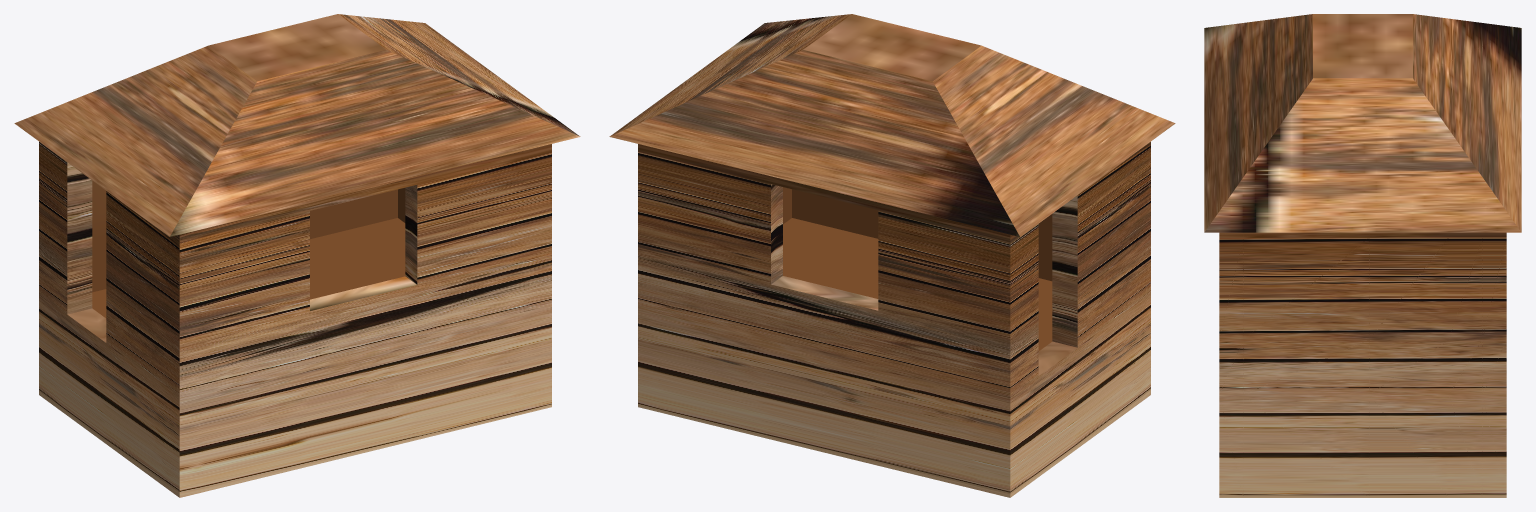
The model's file is home(sarai).fbx.
3 views of the same model, side by side, from view 1: azimuth 30°, elevation 25°; view 2: azimuth 150°, elevation 25°; view 3: azimuth 270°, elevation 25° (orthographic). The views are drawn at different scales.
Visible parts, largest first — view 1: Cube; view 2: Cube; view 3: Cube.
Part boxes in pixels (bbox=[...]): Cube: bbox=[14, 14, 580, 497]; Cube: bbox=[609, 14, 1175, 497]; Cube: bbox=[1204, 14, 1521, 497].
Bounding box in the file's own units: 3390 × 2781 × 2220.
